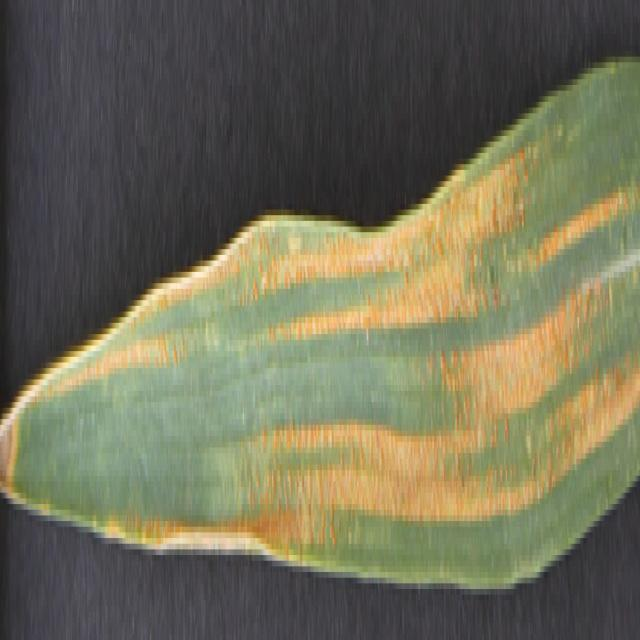leaf rust: (32, 158, 638, 560)
